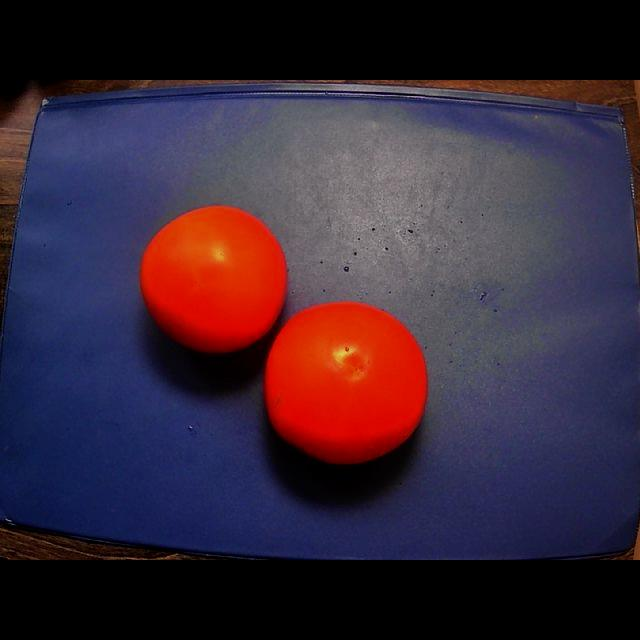tomate: (265, 302, 428, 464), (141, 206, 287, 353)
